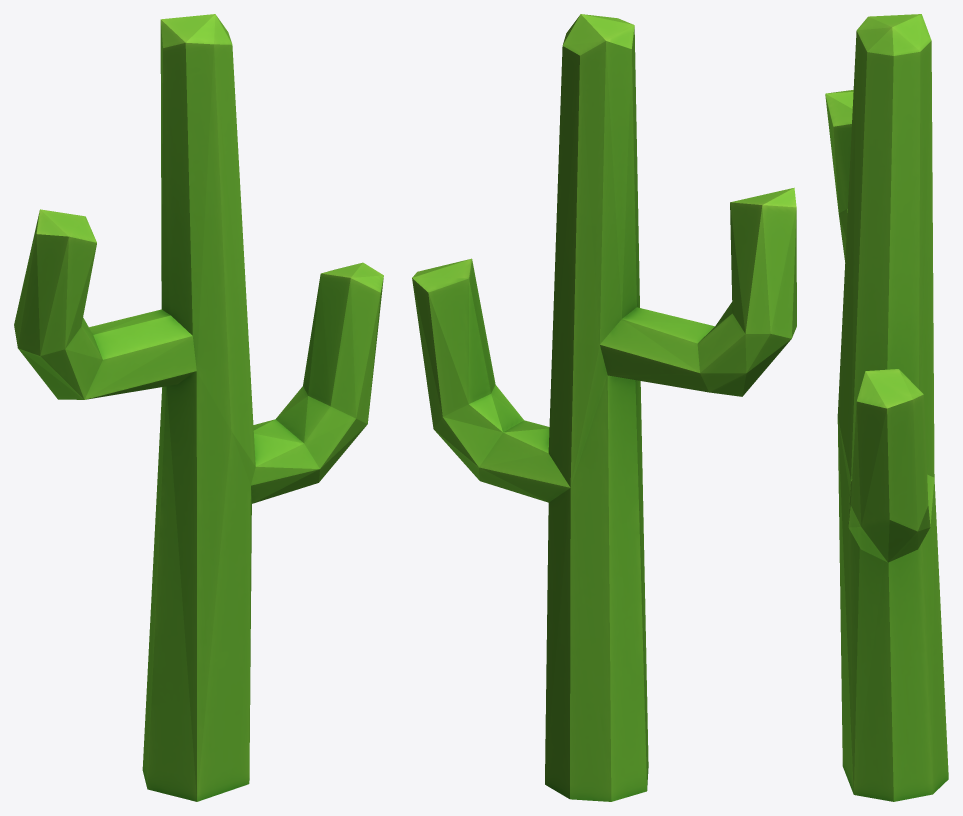
Rendered from Cactus_21.fbx.
3 renders of one model, left to right at view 1: azimuth 30°, elevation 25°; view 2: azimuth 150°, elevation 25°; view 3: azimuth 270°, elevation 25°, orthographic.
Parts seen in each view (by area): view 1: Cactus_21; view 2: Cactus_21; view 3: Cactus_21.
Boxes of the visible parts, x1=… form: Cactus_21: x1=14, y1=14, x2=383, y2=801; Cactus_21: x1=412, y1=14, x2=796, y2=801; Cactus_21: x1=825, y1=14, x2=948, y2=801.
Bounding box in the file's own units: 56.78 × 111 × 16.41.
